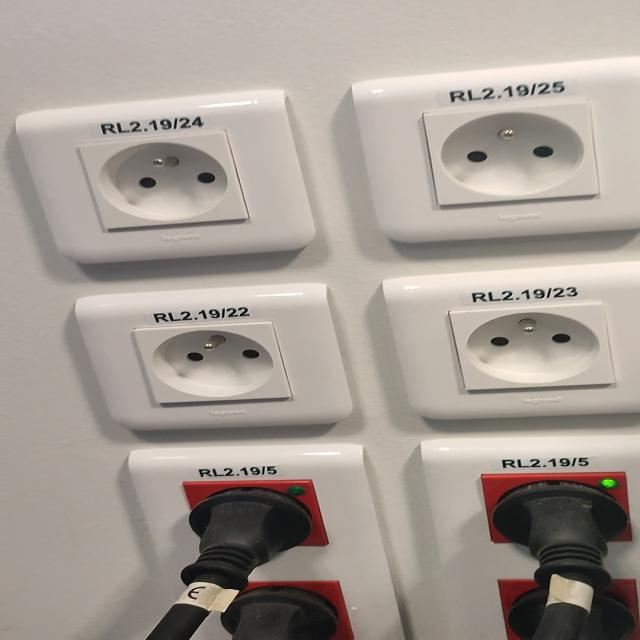house plug: (419, 99, 599, 208), (75, 131, 251, 230), (450, 301, 618, 390), (135, 320, 292, 404)
